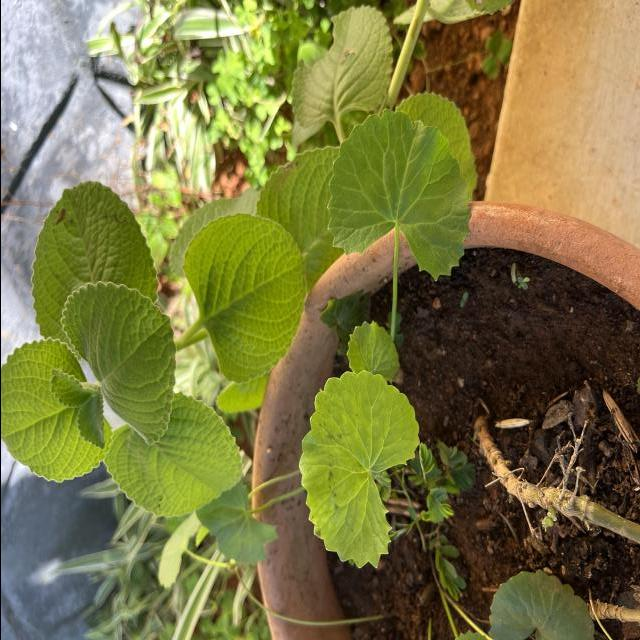Centella asiatica: (322, 106, 472, 284), (295, 368, 422, 572)
